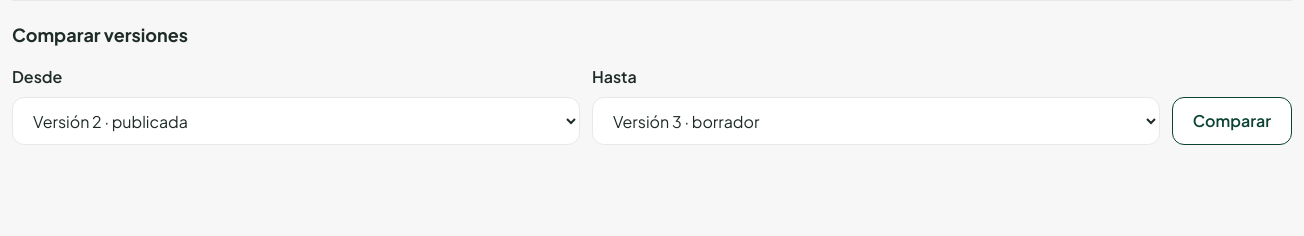
Test: CompareVersions (spec 015, R10) › an error says what happened and nothing is shown as a result
Click the button "Comparar".
click(1232, 121)  # box top-left (1172, 97), bottom-right (1292, 145)
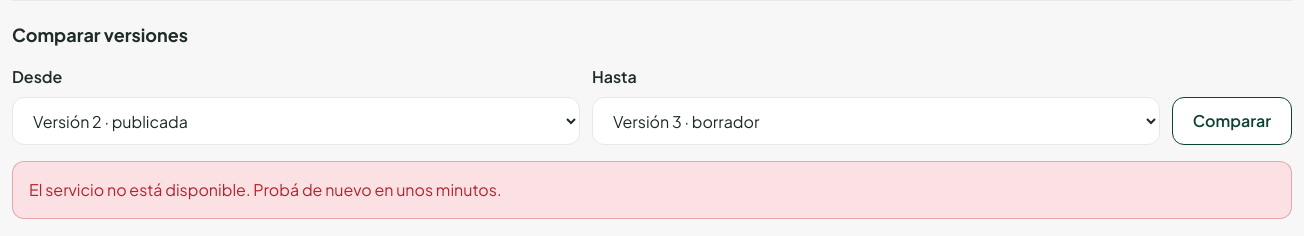
Expected: the message "El servicio no está disponible. Probá de nuevo en unos minutos." is shown, top-left (12, 161), bottom-right (1292, 219)
